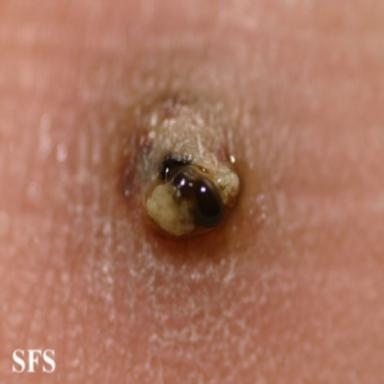Tungiasis: (123, 94, 240, 245)
